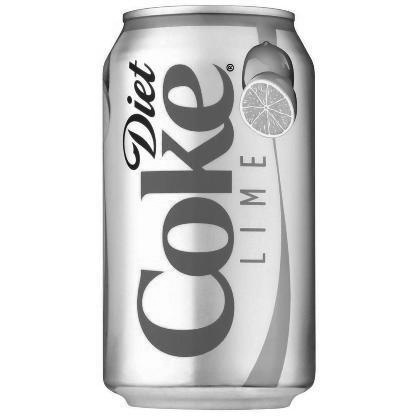alumunium_can: (102, 3, 319, 408)
